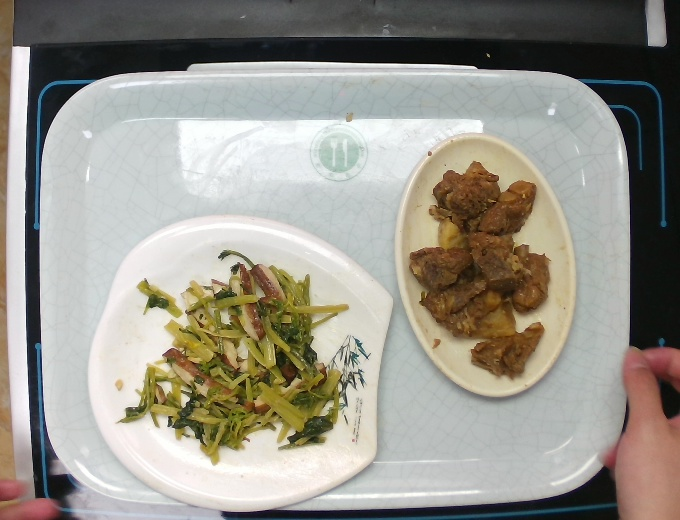JYsf-Mian_Pan: (84, 205, 401, 517)
JYsf-Tuo_Yuan_Wan: (387, 126, 580, 416)
